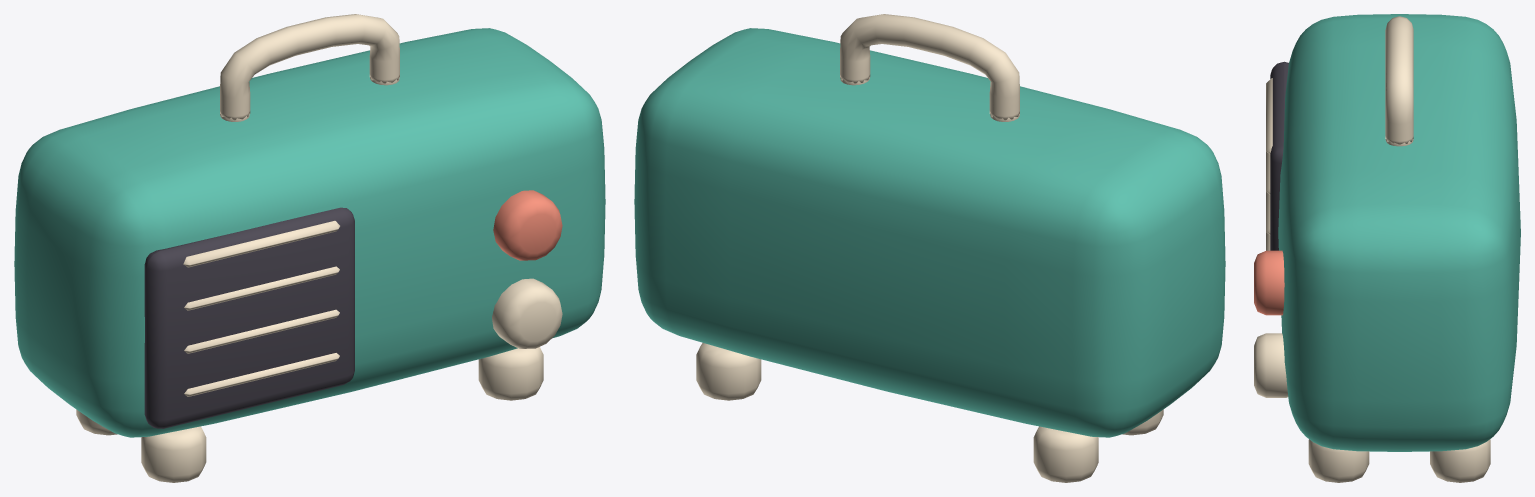
File: radio_a.glb
3 renders of one model, left to right at view 1: azimuth 30°, elevation 25°; view 2: azimuth 150°, elevation 25°; view 3: azimuth 270°, elevation 25°, orthographic. The views are drawn at different scales.
Visible parts, largest first — view 1: body; view 2: body; view 3: body.
Boxes of the visible parts, x1=… form: body: x1=14, y1=14, x2=605, y2=482; body: x1=634, y1=14, x2=1225, y2=482; body: x1=1254, y1=14, x2=1520, y2=482.
Bounding box in the file's own units: 0.28 × 0.197 × 0.132.
